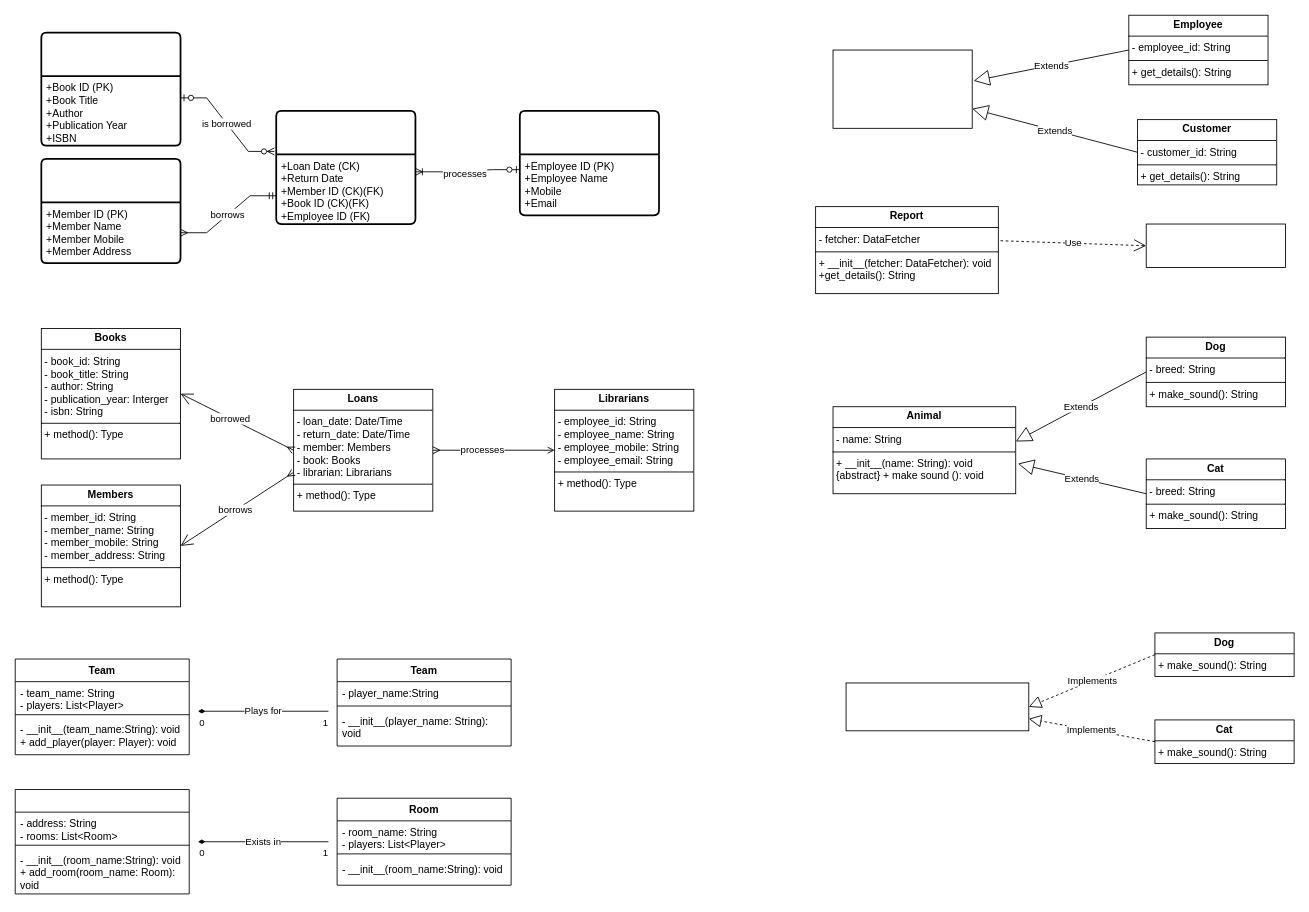
This 1309x912 diagram has some shape labels left out. Each missing label, with the box of its shape:
Animal {abstract} + make sound (): void: (845, 682, 1029, 731)
Books: (40, 31, 181, 146)
DataFetcher + fetch_data(): String: (1145, 223, 1285, 268)
House: (14, 789, 189, 894)
Librarians: (519, 110, 659, 216)
Loans: (275, 110, 416, 224)
Members: (40, 157, 181, 264)
Person - name: String - dob: String + get_details(): String: (832, 49, 972, 128)
